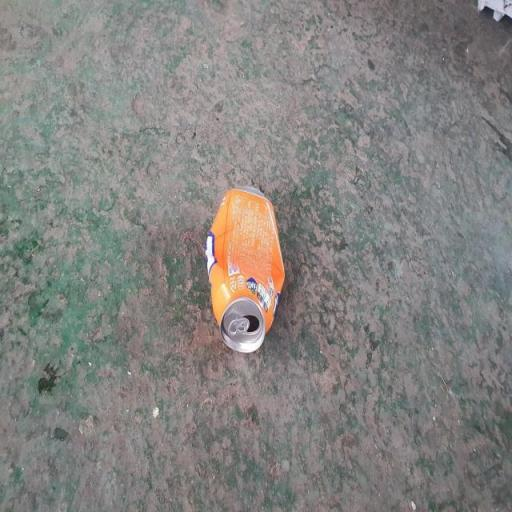metal: (203, 165, 295, 382)
